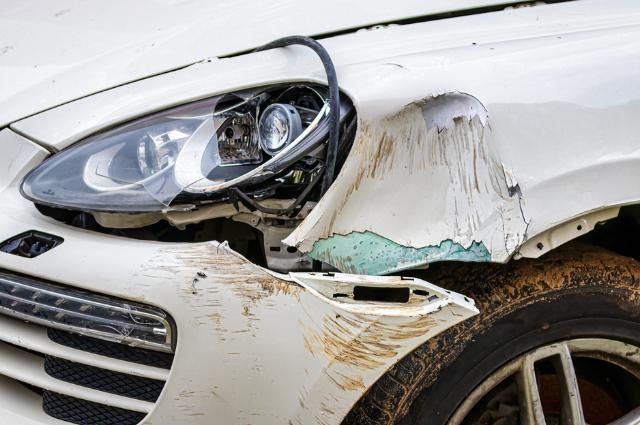Bumper: (141, 245, 467, 425)
Fender: (311, 79, 587, 275)
Light: (78, 97, 329, 218)
